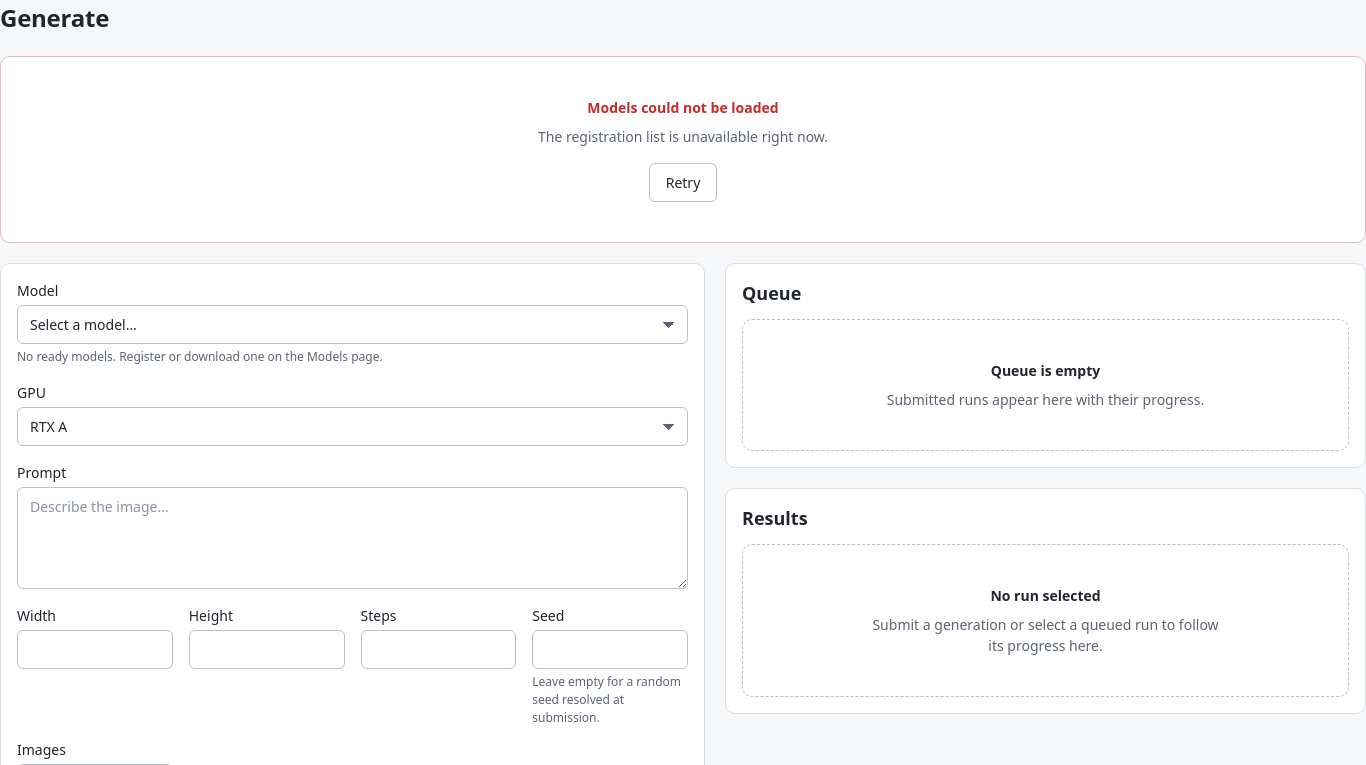
Test case: GeneratePage › recovers the reuse prefill after a failed models query is retried
This screenshot has width=1366, height=765.
Expected: the 1st text "Models could not be loaded" is shown, [587,98,779,117]
Expected: the text box named "Prompt" is empty, [17,487,688,589]
Step 1. Click the button named "Retry" → (683, 182), box [649,163,717,202]
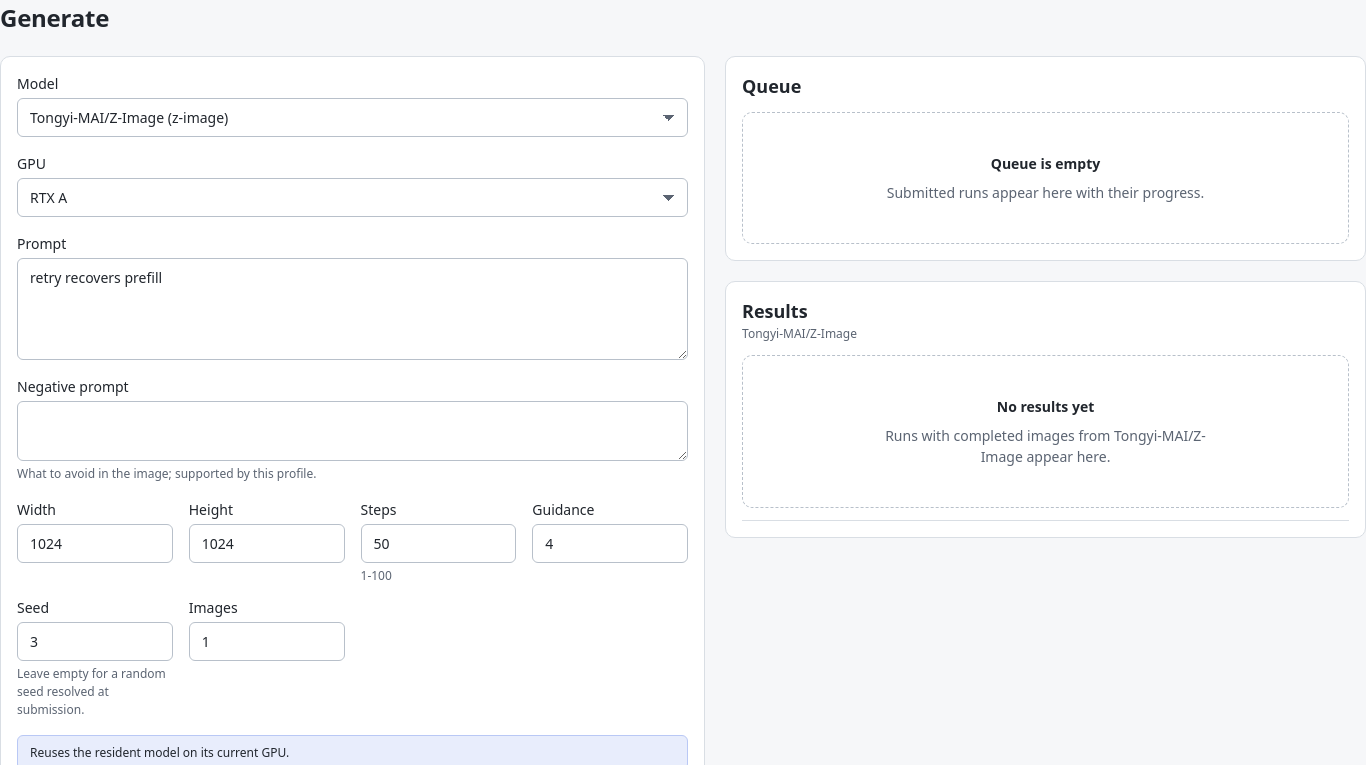
Expected: the 2nd dropdown named "GPU" shows "RTX A", [17,178,688,217]
Expected: the 1st text box named "Prompt" holds "retry recovers prefill", [17,258,688,360]
Expected: the 1st dropdown named "Model" shows "Tongyi-MAI/Z-Image (z-image)", [17,98,688,137]
